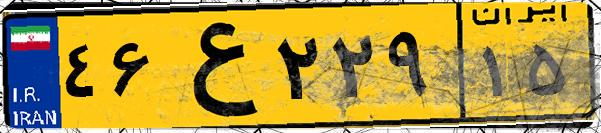1: (475, 38, 525, 113)
2: (270, 28, 330, 110), (330, 28, 385, 110)
4: (57, 26, 110, 100)
5: (525, 38, 570, 115)
6: (110, 28, 158, 98)
9: (385, 28, 445, 110)
ع: (158, 12, 270, 120)
